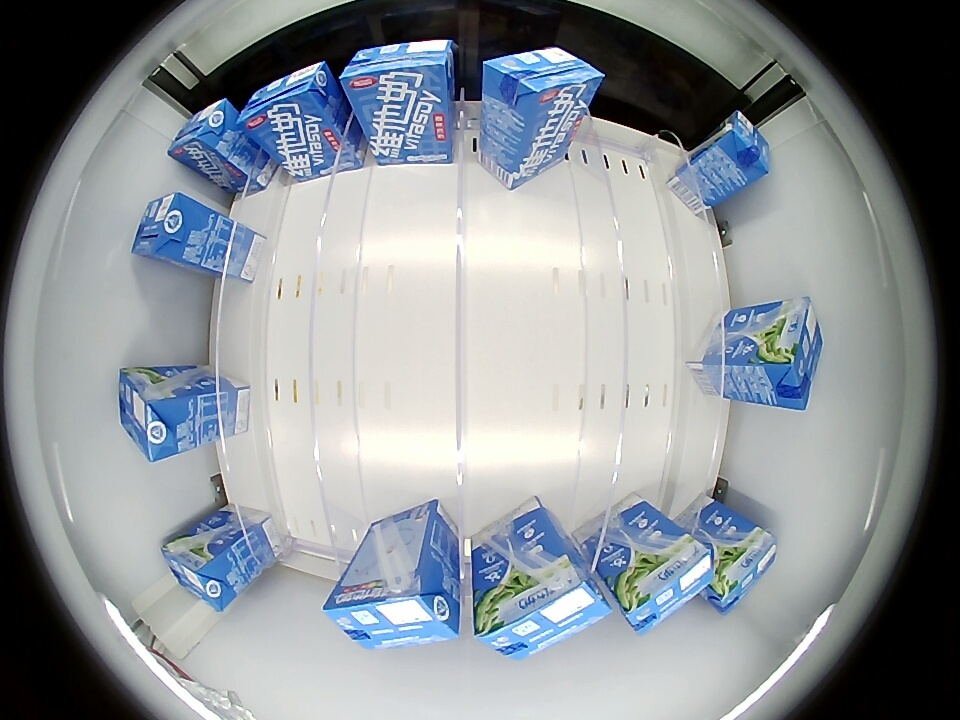weitanai: (474, 568, 615, 660), (322, 574, 462, 649), (617, 538, 716, 634), (483, 46, 604, 121), (340, 40, 457, 112), (239, 61, 339, 140), (754, 298, 821, 410), (119, 368, 189, 464), (160, 534, 241, 612), (707, 524, 778, 612), (131, 191, 204, 263), (167, 98, 241, 167), (714, 110, 771, 187)
